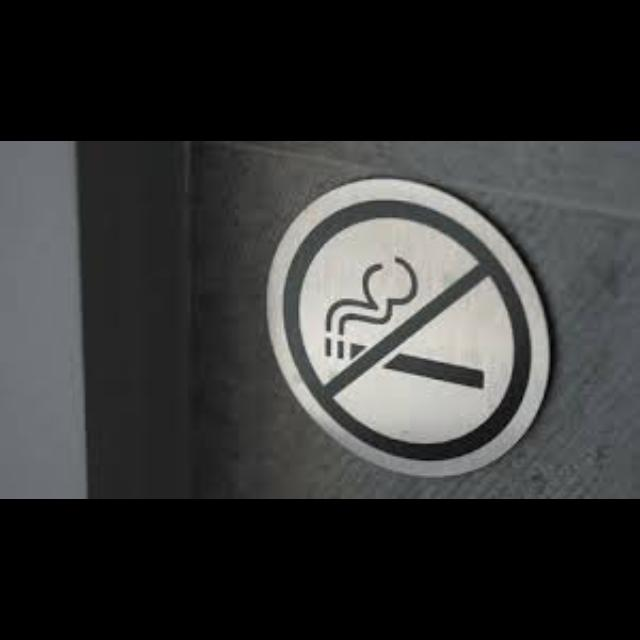cam hut thuoc: (269, 177, 548, 474)
